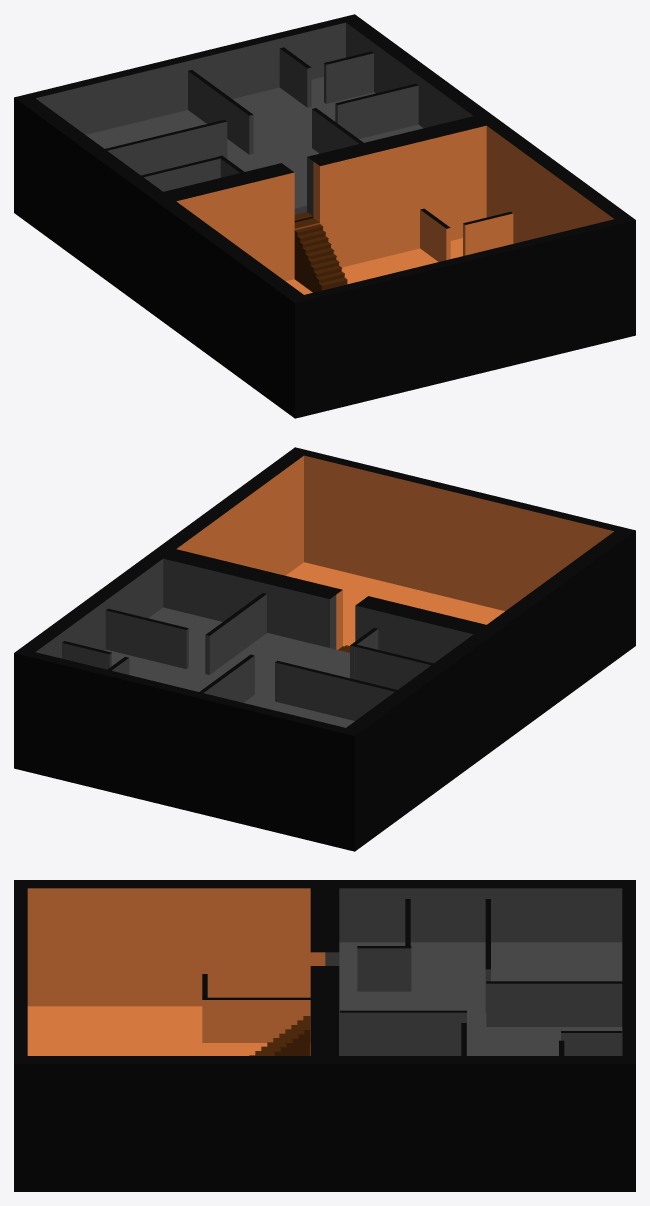
The model's file is house.fbx.
3 renders of one model, top to bottom at view 1: azimuth 30°, elevation 25°; view 2: azimuth 150°, elevation 25°; view 3: azimuth 270°, elevation 25°, orthographic. The views are drawn at different scales.
Visible parts, largest first — view 1: pCube16; view 2: pCube16; view 3: pCube16.
Boxes of the visible parts, box(x1,y1,x2,y2) form: pCube16: box(14, 14, 635, 418); pCube16: box(14, 447, 635, 851); pCube16: box(14, 880, 635, 1191).
Bounding box in the file's own units: 9.02 × 2.92 × 12.88.
